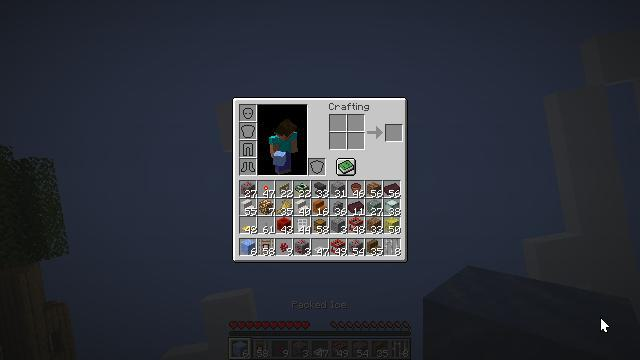cursor: (600, 317, 610, 333)
